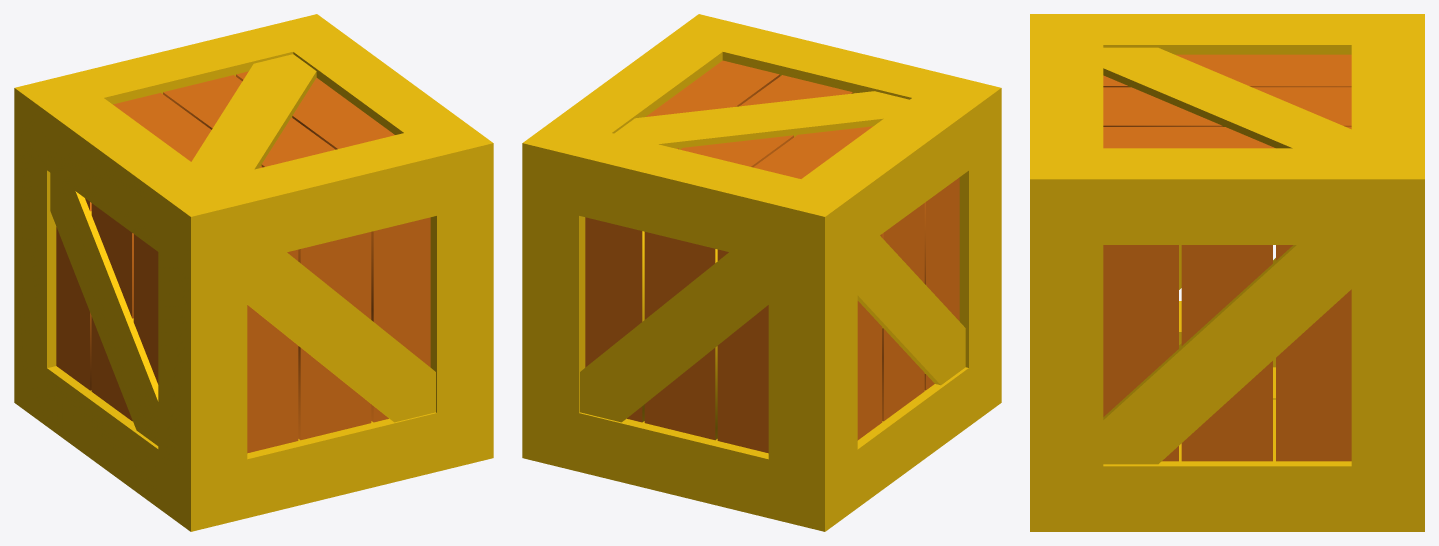
Rendered from Wall_Tile_Box.fbx.
3 renders of one model, left to right at view 1: azimuth 30°, elevation 25°; view 2: azimuth 150°, elevation 25°; view 3: azimuth 270°, elevation 25°, orthographic. The views are drawn at different scales.
Parts seen in each view (by area): view 1: Wall_Tile_Box; view 2: Wall_Tile_Box; view 3: Wall_Tile_Box.
Boxes of the visible parts, x1,y1,x2,y2 form: Wall_Tile_Box: (14,14,493,531); Wall_Tile_Box: (522,14,1001,531); Wall_Tile_Box: (1030,14,1424,531).
Size of the model in its own units: 2.02 by 2.04 by 2.01.
